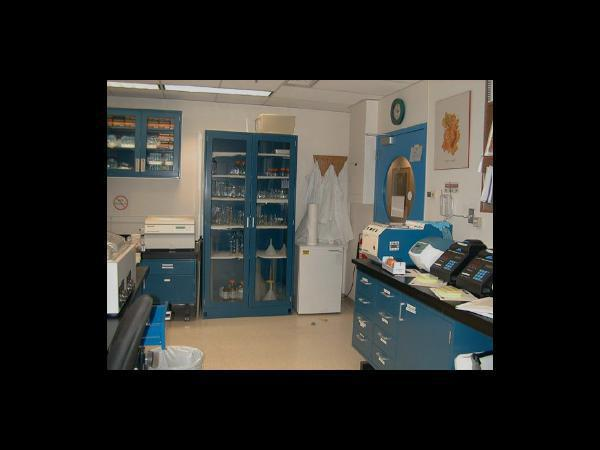Armario: (208, 129, 294, 314)
Electrodomestico: (297, 244, 341, 313)
Puerta: (376, 131, 422, 220)
